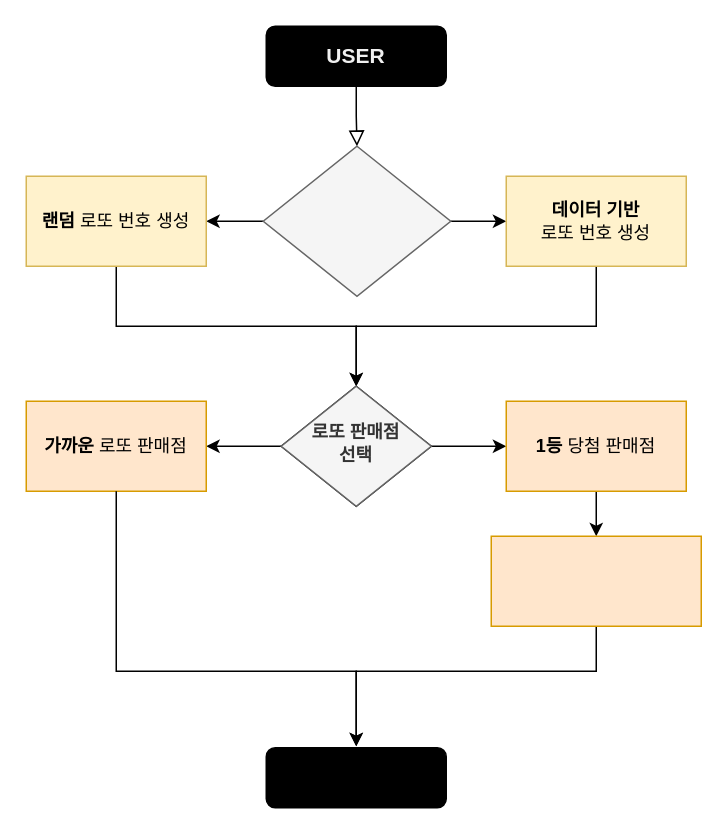
This 728x834 diagram has some shape labels left out. The centre of each missing label's shape, as x and y in pixels:
DOTTO 에서 로또 번호 생성 방법 선택: point (356, 220)
DOTTO 지도에서 가까운 1등 판매점 확인하기: point (595, 580)
로또 구매: point (355, 777)
